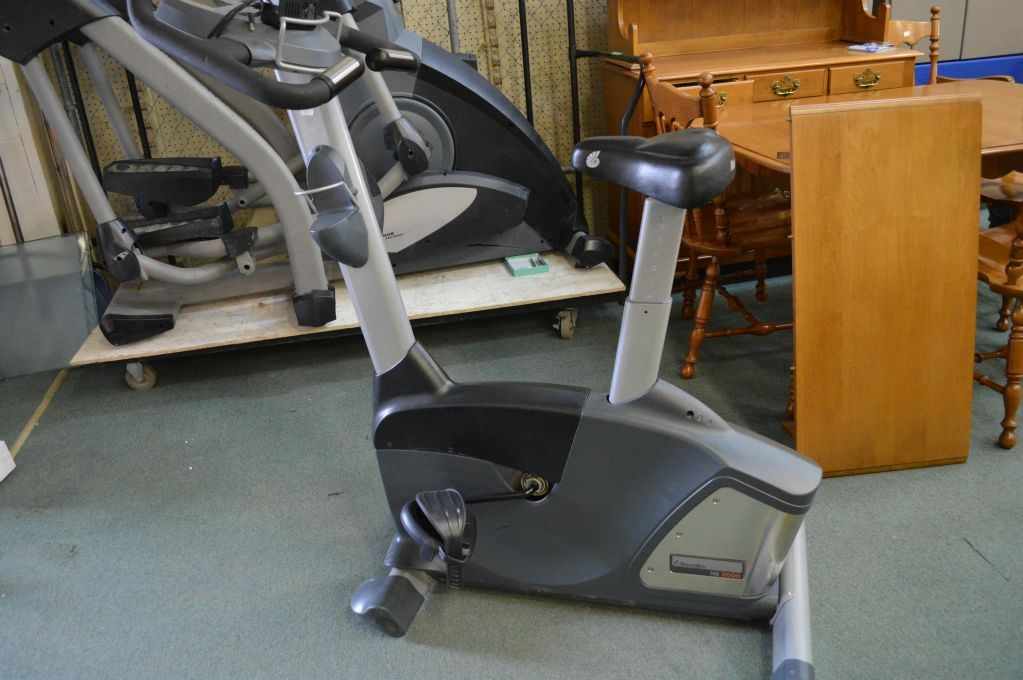gym_bike: (136, 6, 854, 671)
